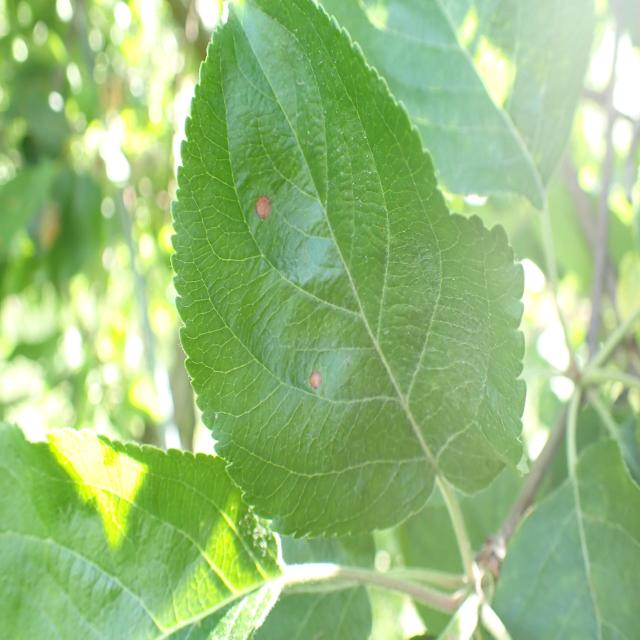Black Rot: (305, 352, 328, 426), (246, 186, 274, 234)
